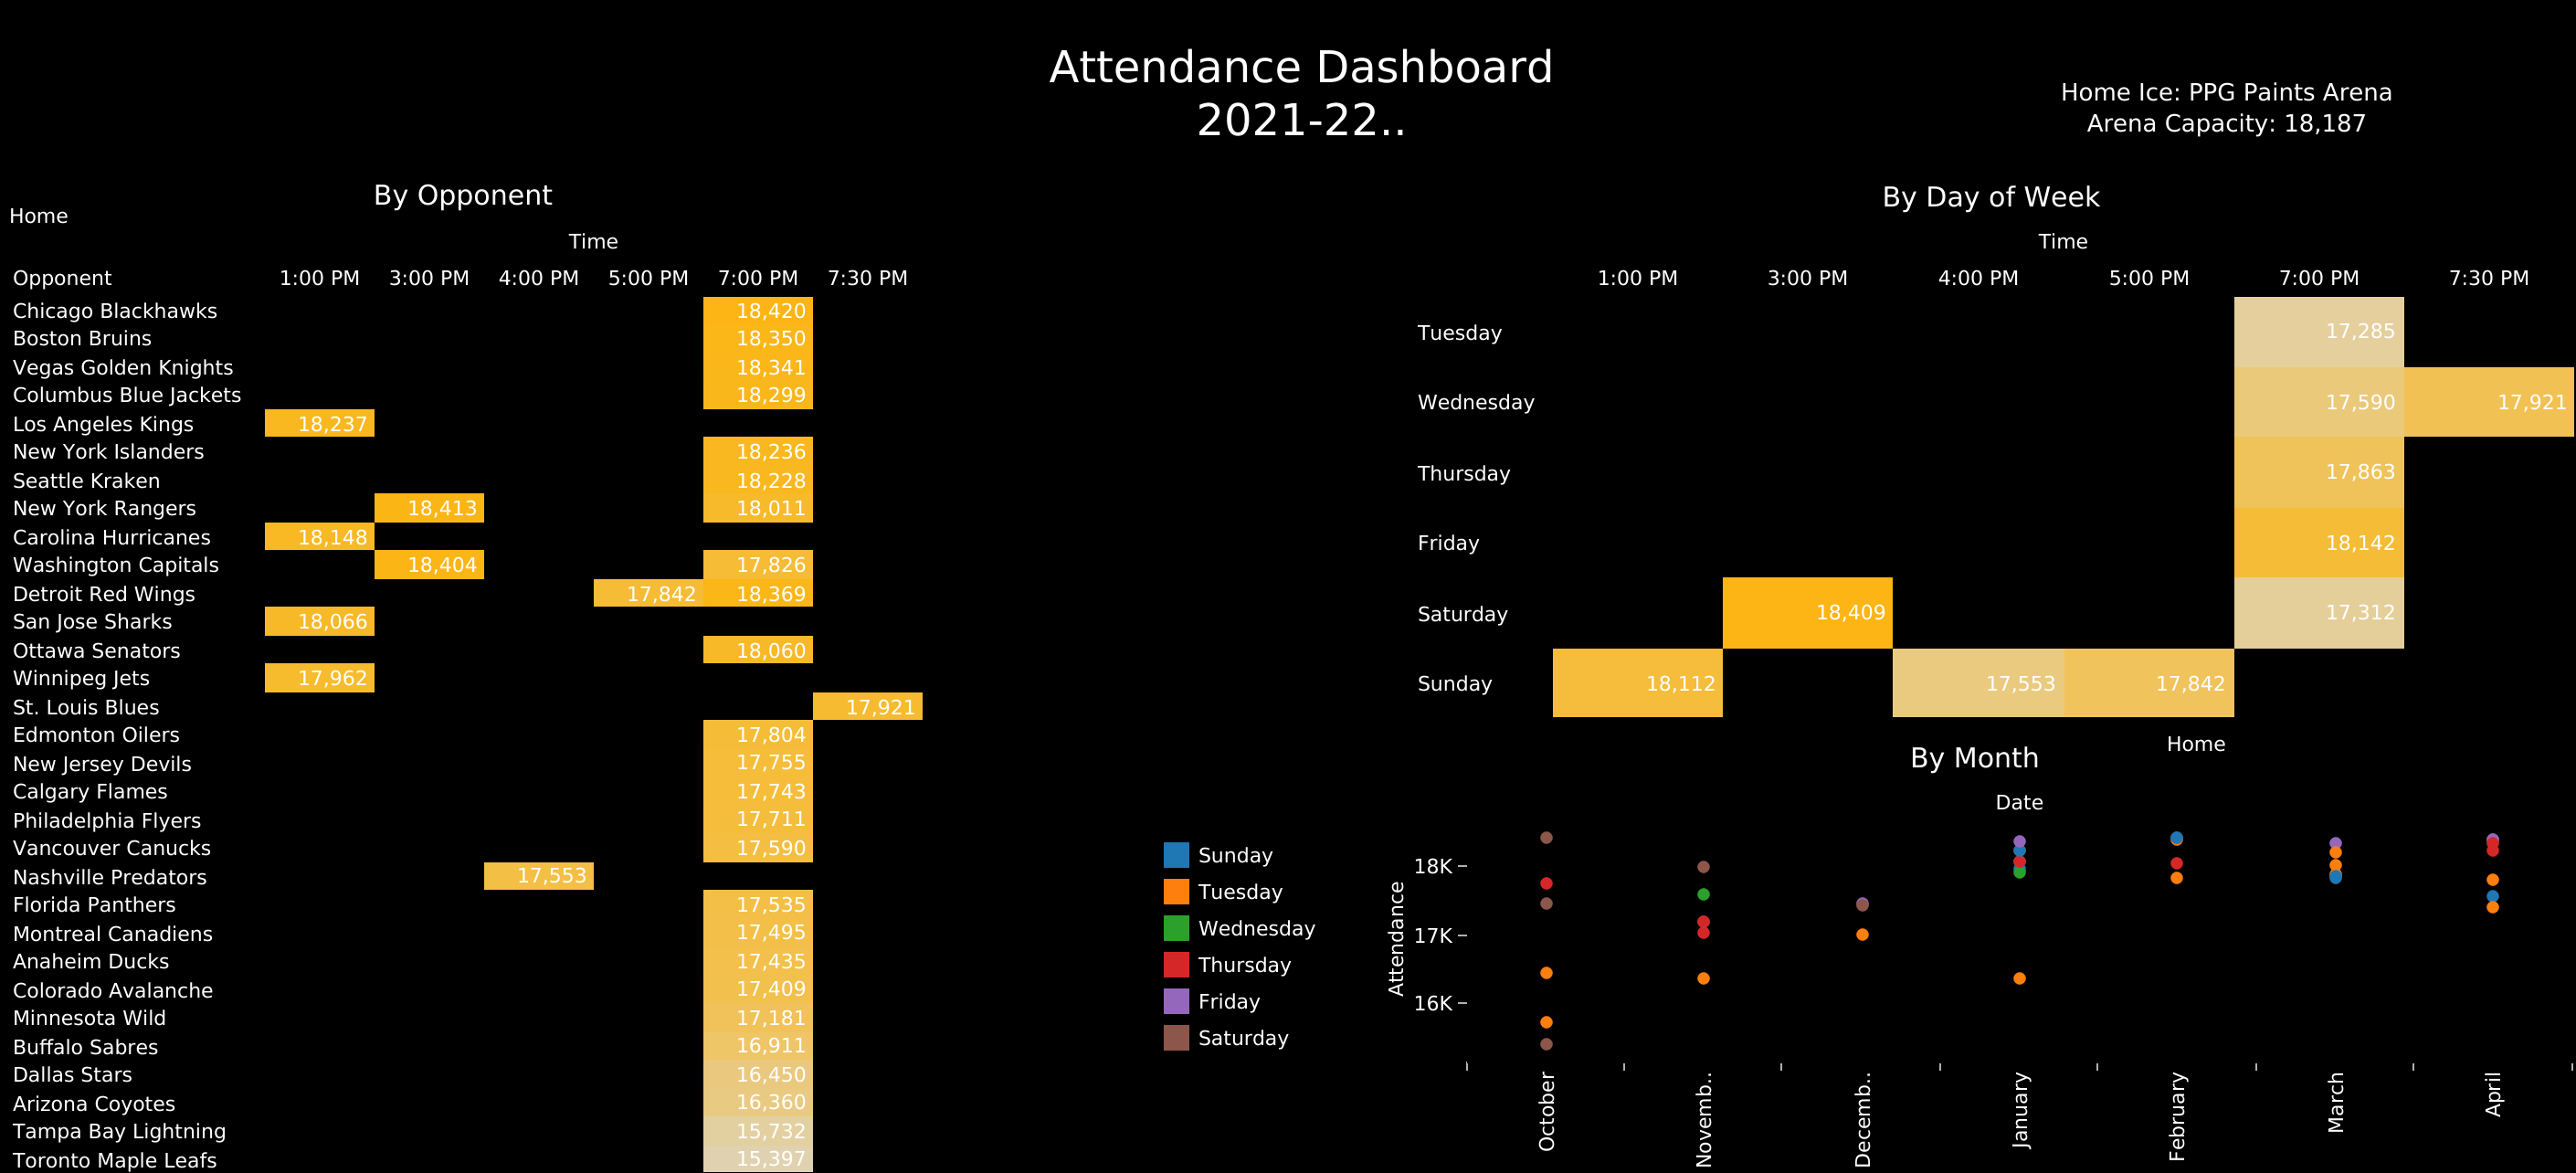

What the dashboard file says about the page in this screenshot:
{"tool":"tableau","page":{"name":"Dashboard 1","canvas":[1024,768],"ordinal":0},"visuals":[{"type":"text","box":[777,0,215,140]},{"type":"text","box":[270,19,494,84]},{"type":"worksheet","title":"Sheet 2","mark":"Square","rows":["Opponent"],"cols":["Time"],"box":[1,115,521,653]},{"type":"worksheet","title":"Gametime Pens Only","mark":"Square","rows":["Date"],"cols":["Time"],"box":[559,116,464,354]},{"type":"filter","title":"Sheet 2","param":"[federated.0daygmn021zmem1amp6fu0qn192r].[none:Calculation_6804516882643234817:n","box":[2,133,127,24]},{"type":"filter","title":"Sheet 3","param":"[federated.0daygmn021zmem1amp6fu0qn192r].[none:Calculation_6804516882643234817:n","box":[859,478,159,26]},{"type":"worksheet","title":"Sheet 3","mark":"Line","rows":["Attendance"],"cols":["Date"],"box":[547,483,475,283]}]}

Visuals, with their boxes on the page's 1024x768 design canvas (x1, y1, x2, y2). These are canvas units, not pixel positions in the 2576x1173 screenshot, which may show the page scaled, cropped or inside an application window:
text: 777:0:992:140
text: 270:19:764:103
"Sheet 2" worksheet (Square marks): 1:115:522:768
"Gametime Pens Only" worksheet (Square marks): 559:116:1023:470
"Sheet 2" filter: 2:133:129:157
"Sheet 3" filter: 859:478:1018:504
"Sheet 3" worksheet (Line marks): 547:483:1022:766
